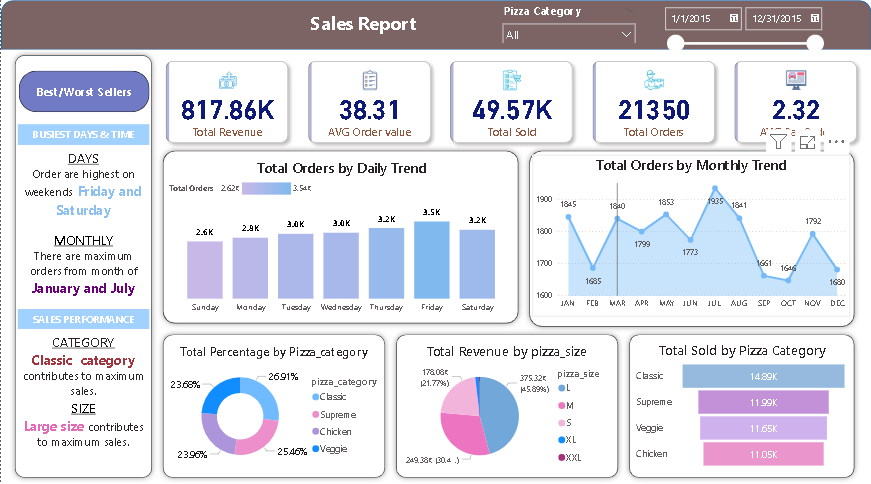

This screenshot's page, from the dashboard's own definition file:
{"tool":"powerbi","page":{"name":"Home","canvas":[1280,720],"ordinal":0},"visuals":[{"type":"cardVisual","fields":{"Data":["SalesPiza.Total Revenue","SalesPiza.AVG Order value","SalesPiza.Total Sold","SalesPiza.Total Orders","SalesPiza.AVG Par Order"]},"box":[225.4,81.8,1054.4,154.4],"z":1000},{"type":"shape","box":[0,9.3,1279.8,72.6],"z":2000},{"type":"textbox","box":[364.3,18.5,336.6,46.3],"z":3000},{"type":"shape","box":[230,222.3,538.8,270.2],"z":4000},{"type":"columnChart","title":"Total Orders by Daily Trend","fields":{"Category":["SalesPiza.Day Name"],"Y":["SalesPiza.Total Orders"]},"box":[242.4,236.2,517.2,237.7],"z":5000},{"type":"shape","box":[768.8,222.3,494,274.8],"z":6000},{"type":"areaChart","title":"Total Orders by Monthly Trend","fields":{"Category":["SalesPiza.Order Month"],"Y":["SalesPiza.Total Orders"]},"box":[781.2,236.2,467.8,237.7],"z":7000},{"type":"shape","box":[230,492.5,342.7,226.9],"z":8000},{"type":"shape","box":[915.5,492.5,347.4,226.9],"z":9000},{"type":"shape","box":[572.8,492.5,342.7,226.9],"z":10000},{"type":"donutChart","title":"Total Percentage by Pizza Category","fields":{"Category":["SalesPiza.pizza_category"],"Y":["SalesPiza.Total Revenue"]},"box":[242.4,512.5,318,193],"z":11000},{"type":"pieChart","fields":{"Category":["SalesPiza.pizza_size"],"Y":["SalesPiza.Total Revenue"]},"box":[585.1,511,318,193],"z":12000},{"type":"funnel","title":"Total Sold by Pizza Category","fields":{"Y":["SalesPiza.Total Sold"],"Category":["SalesPiza.pizza_category"]},"box":[929.4,509.5,321.1,193],"z":13000},{"type":"shape","box":[12.4,81.8,217.7,637.6],"z":14000},{"type":"textbox","box":[24.7,191.4,193,30.9],"z":15000},{"type":"textbox","box":[24.7,222.3,193,236.2],"z":16000},{"type":"textbox","box":[24.7,463.1,193,29.3],"z":17000},{"type":"textbox","box":[24.7,492.5,193,211.5],"z":18000},{"type":"slicer","fields":{"Values":["SalesPiza.pizza_category"]},"box":[727.1,9.3,216.1,63.3],"z":19000},{"type":"slicer","fields":{"Values":["SalesPiza.order_date"]},"box":[963.3,9.3,254.7,86.5],"z":20000},{"type":"pageNavigator","box":[26.2,112.7,193,61.8],"z":22000}]}

Visuals, with their boxes in screenshot pixels (x1, y1, x2, y2), scaled from the page's 1280x720 canvas onto the 871x484 screenshot:
cardVisual - SalesPiza.Total Revenue x SalesPiza.AVG Order value: locate(153, 55, 870, 159)
shape: locate(0, 6, 870, 55)
textbox: locate(248, 12, 477, 44)
shape: locate(157, 149, 523, 331)
"Total Orders by Daily Trend" columnChart: locate(165, 159, 517, 319)
shape: locate(523, 149, 859, 334)
"Total Orders by Monthly Trend" areaChart: locate(532, 159, 850, 319)
shape: locate(157, 331, 390, 483)
shape: locate(623, 331, 859, 483)
shape: locate(390, 331, 623, 483)
"Total Percentage by Pizza Category" donutChart: locate(165, 345, 381, 474)
pieChart - SalesPiza.pizza_size x SalesPiza.Total Revenue: locate(398, 344, 615, 473)
"Total Sold by Pizza Category" funnel: locate(632, 342, 851, 472)
shape: locate(8, 55, 157, 483)
textbox: locate(17, 129, 148, 149)
textbox: locate(17, 149, 148, 308)
textbox: locate(17, 311, 148, 331)
textbox: locate(17, 331, 148, 473)
slicer - SalesPiza.pizza_category: locate(495, 6, 642, 49)
slicer - SalesPiza.order_date: locate(655, 6, 829, 64)
pageNavigator: locate(18, 76, 149, 117)
